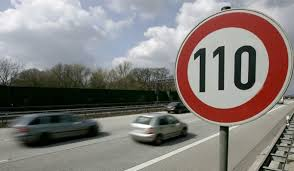Speed_limit_110km: (172, 9, 292, 126)
